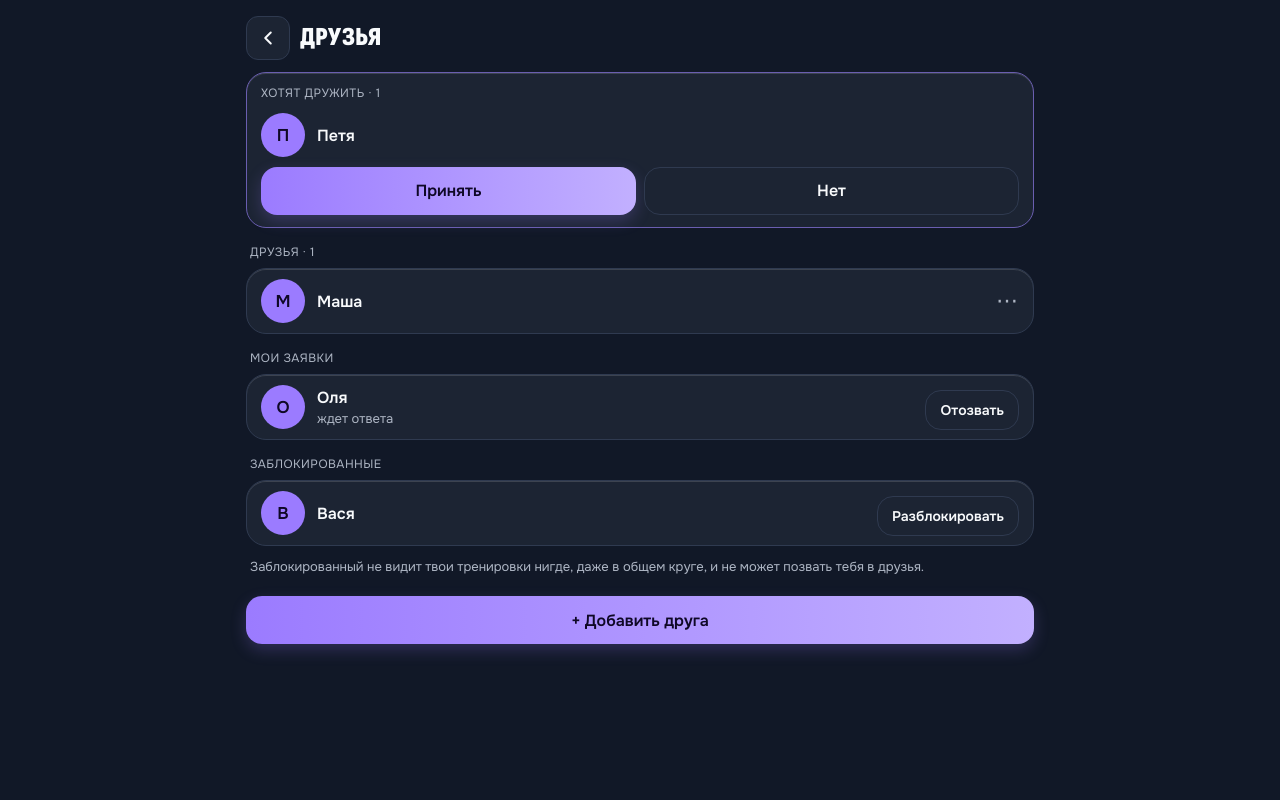
Test case: FriendsScreen — коды дружбы › неверный код — один понятный ответ, без превью
Click the button "+ Добавить друга". click: (640, 620)
box: [246,596,1034,644]
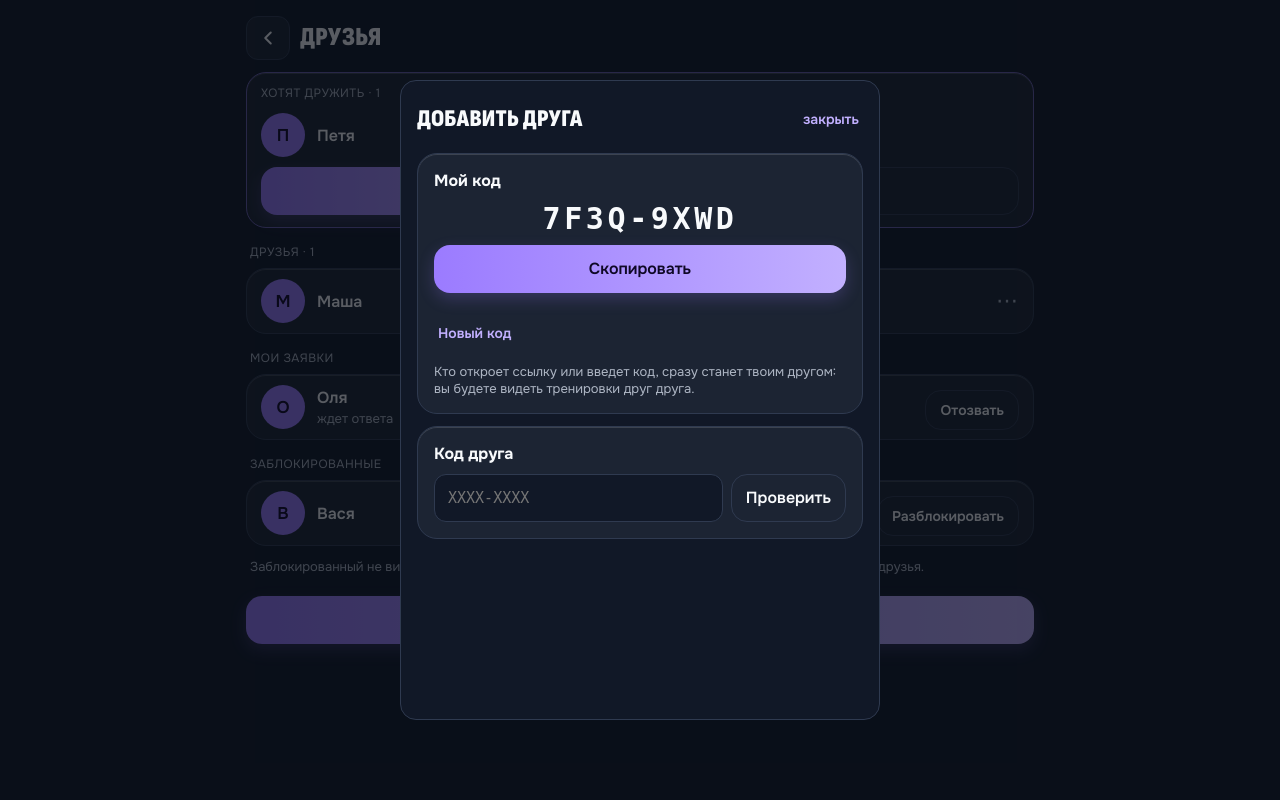
Type "ZZZZ-ZZZZ" into the field labelled "Код друга". click: (578, 498)
box: [434,474,723,522]
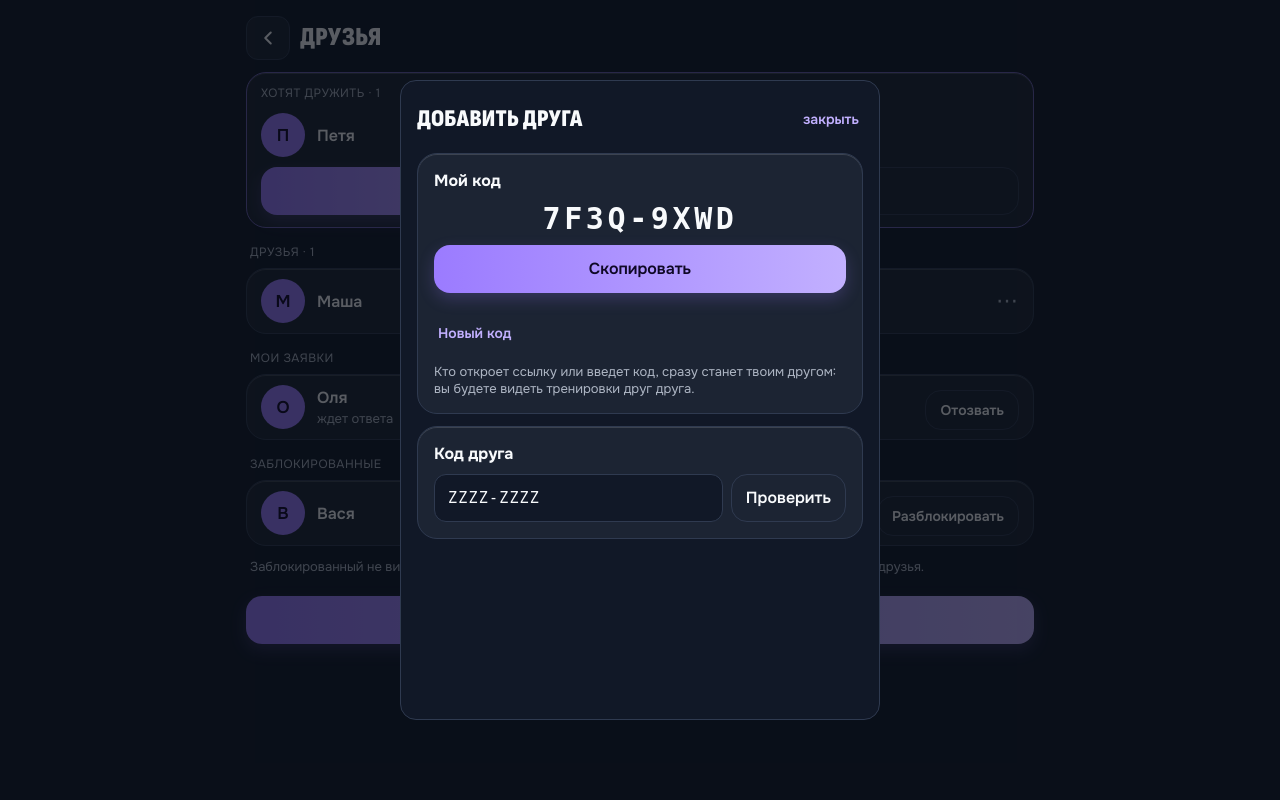
Click the button "Проверить". click: (788, 498)
box: [731,474,846,522]
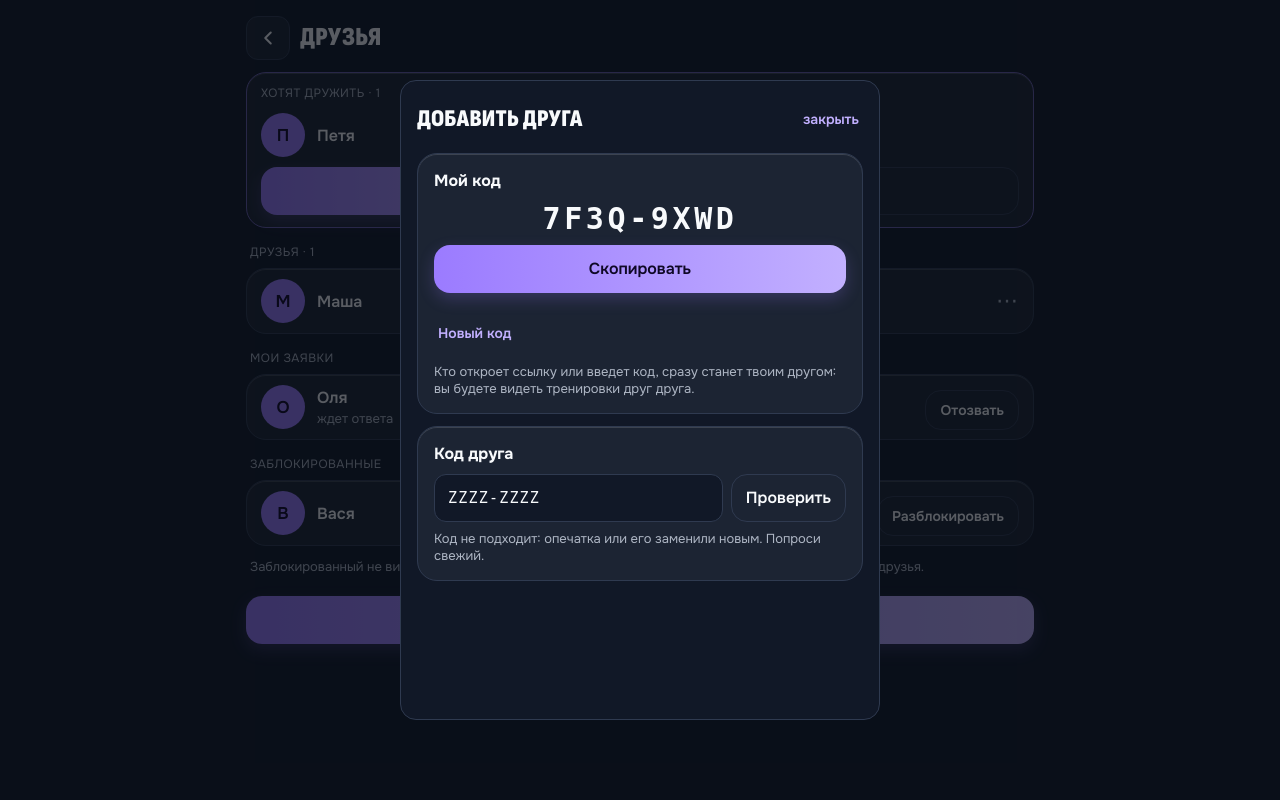
Check: the text "Код не подходит: опечатка или его заменили новым. Попроси свежий." is shown, box [434,530,846,564]
